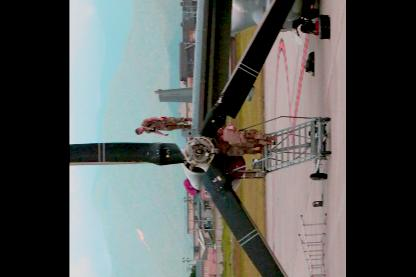Tornado: (70, 0, 321, 276)
